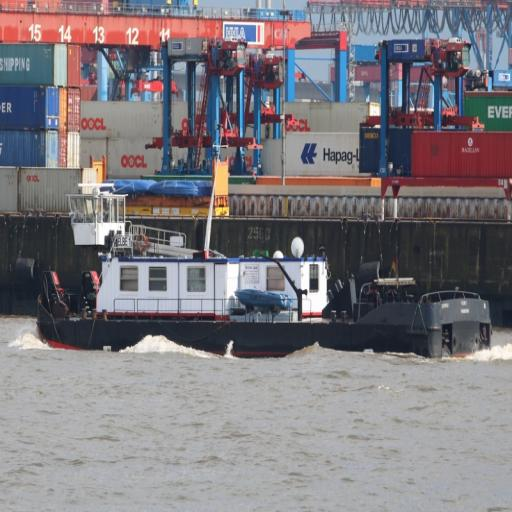tugboat: (34, 126, 498, 378)
